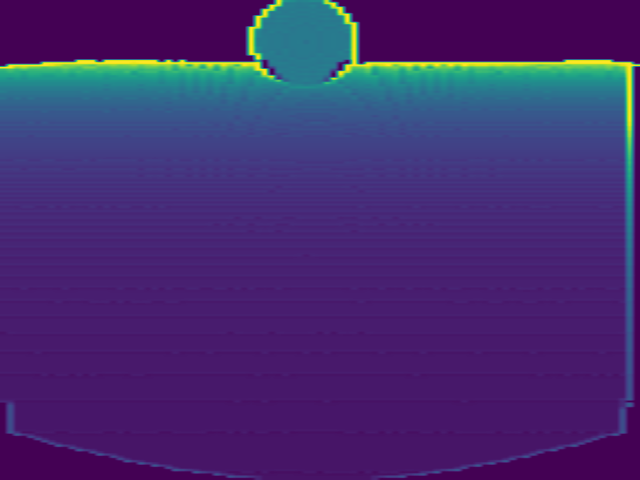sphere: (245, 1, 359, 87)
